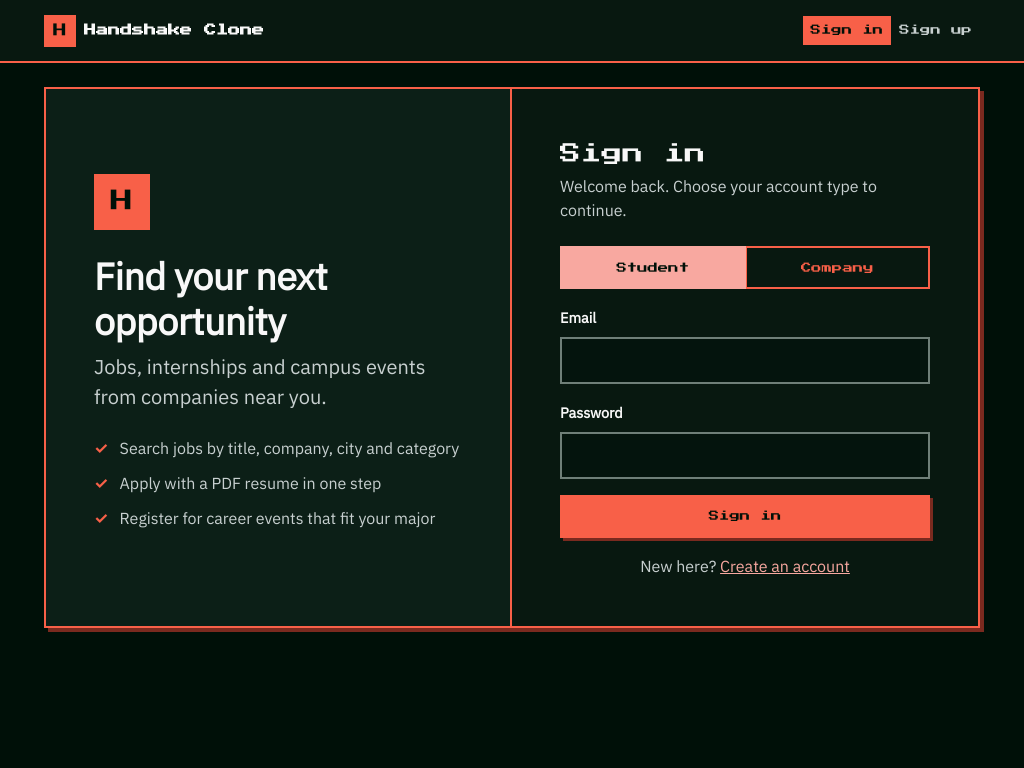
Scenario: Login page › shows the server's message for a wrong password and stays on the page
Type "ada@example.com" into the field labelled "Email" at {"x": 745, "y": 361}, box x1=560 y1=337 x2=930 y2=384
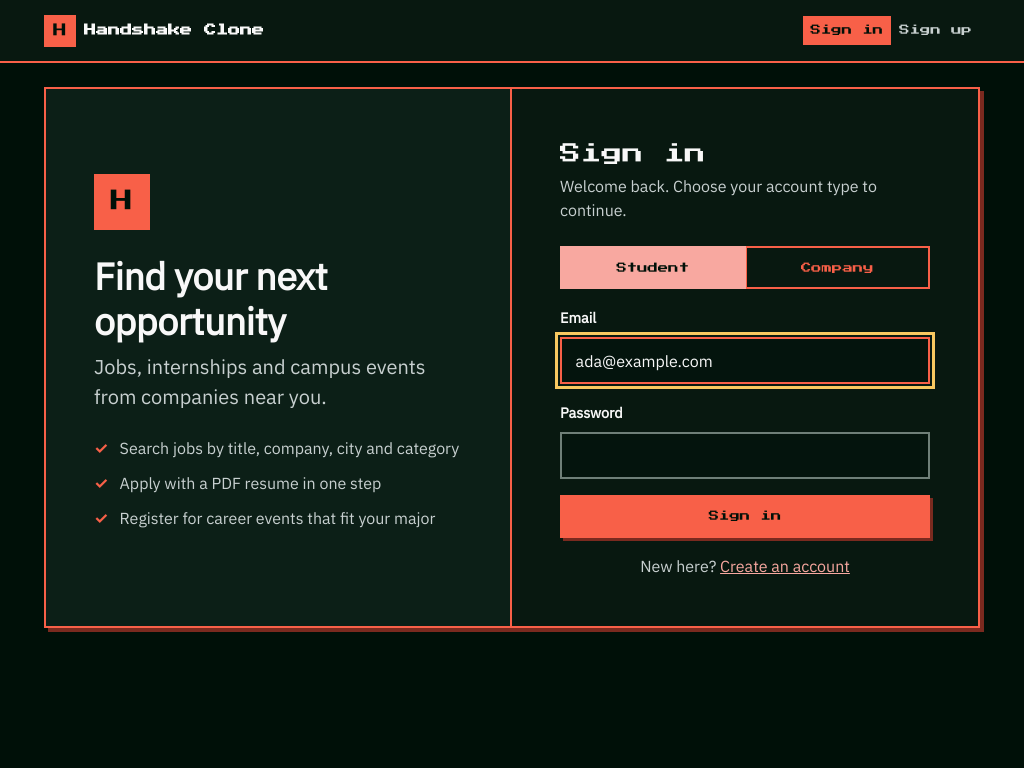
Type "WrongPass1" into the password field labelled "Password" at {"x": 745, "y": 456}, box x1=560 y1=432 x2=930 y2=479
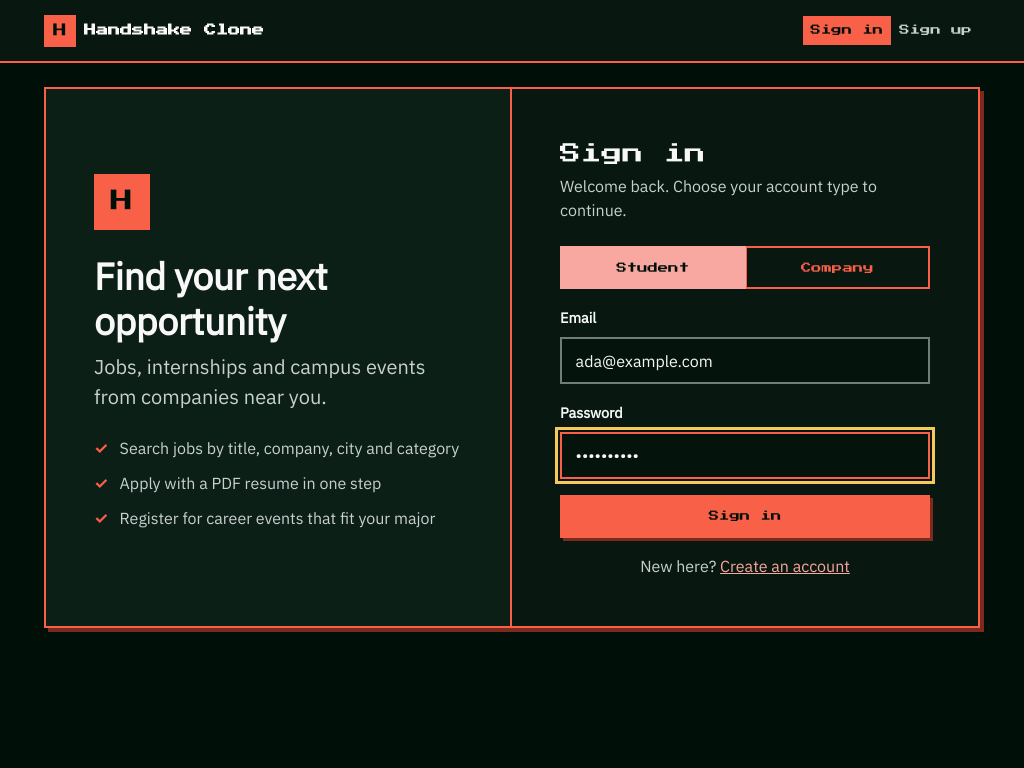
Click the button "Sign in" at {"x": 745, "y": 517}, box x1=560 y1=495 x2=930 y2=538
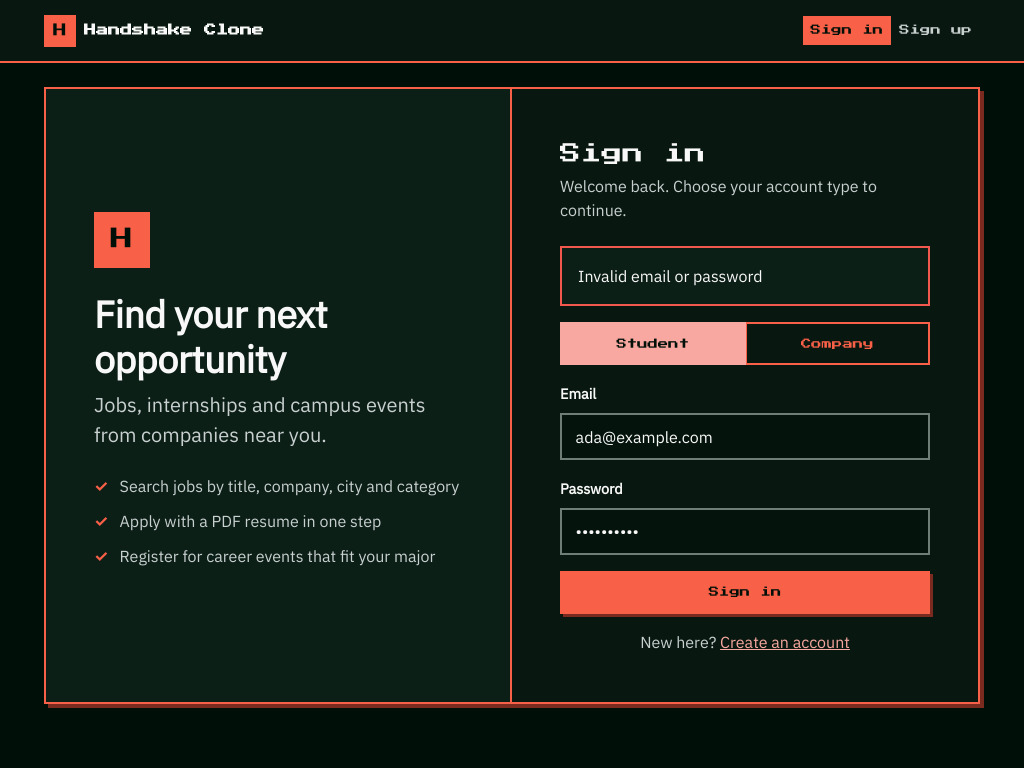
Expected: the heading "Sign in" is shown, x1=560 y1=143 x2=706 y2=164
Result: the text "Invalid email or password" is shown at x1=560 y1=246 x2=930 y2=306
